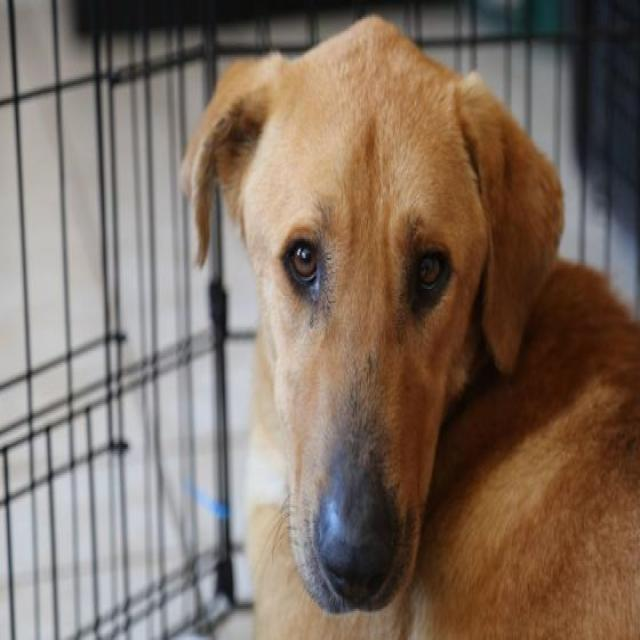labrador_retriever_dog: (172, 14, 578, 640)
